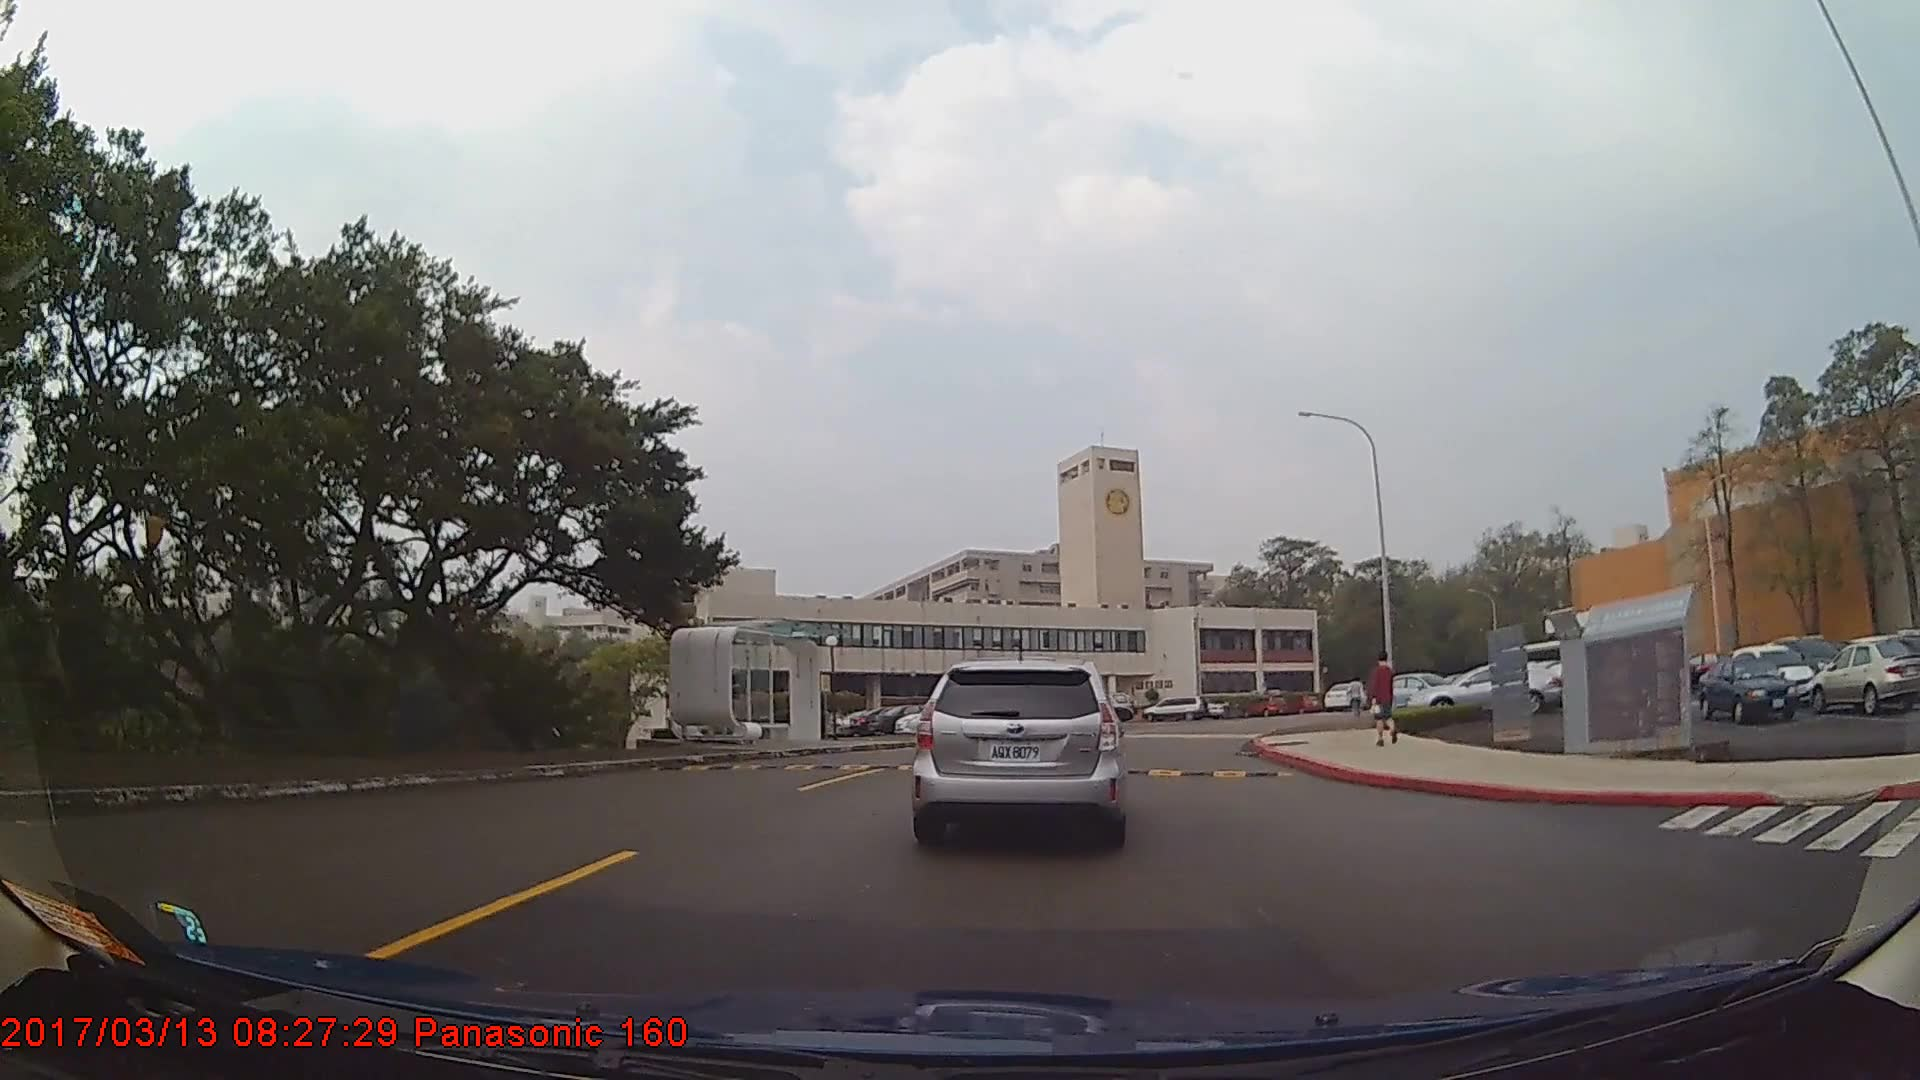pedestrian: (1367, 652, 1398, 750)
vehicle: (915, 653, 1121, 846), (1810, 635, 1920, 715), (1405, 660, 1559, 714), (1694, 653, 1795, 719), (1729, 640, 1814, 704), (1142, 694, 1207, 722), (1324, 678, 1362, 710)
